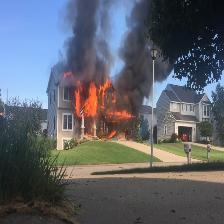fire: (61, 70, 140, 140)
